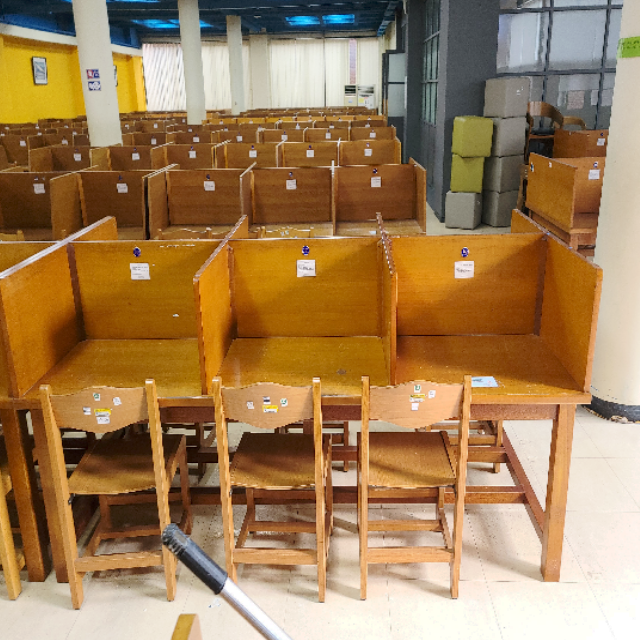empty: (6, 239, 203, 483), (401, 237, 587, 491), (210, 243, 395, 497)
